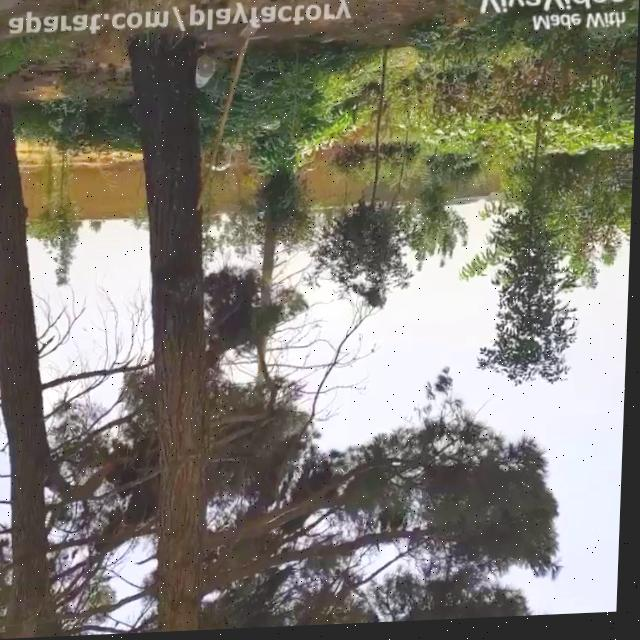drone: (310, 328, 326, 337)
